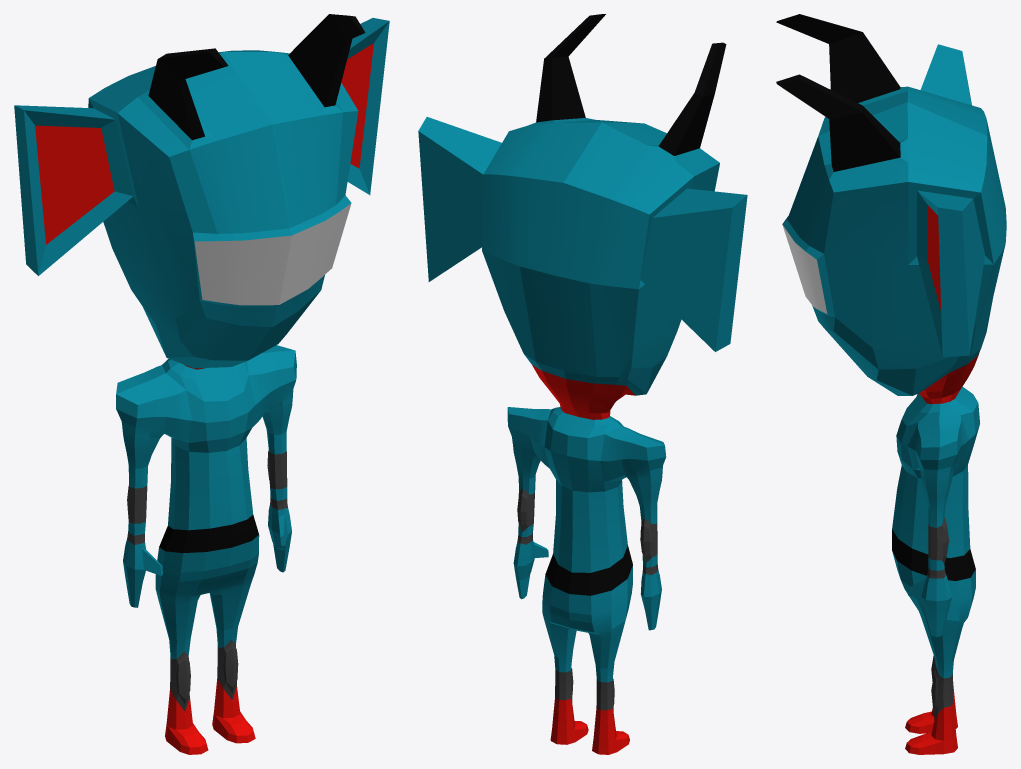
Rendered from Aliens4.fbx.
3 views of the same model, side by side, from view 1: azimuth 30°, elevation 25°; view 2: azimuth 150°, elevation 25°; view 3: azimuth 270°, elevation 25° (orthographic). The views are drawn at different scales.
Visible parts, largest first — view 1: Inimigo; view 2: Inimigo; view 3: Inimigo.
Part boxes in pixels (x1,y1,x2,y2): Inimigo: [14, 14, 389, 754]; Inimigo: [418, 14, 747, 754]; Inimigo: [776, 14, 1006, 754].
Bounding box in the file's own units: 108 × 215 × 64.65.
